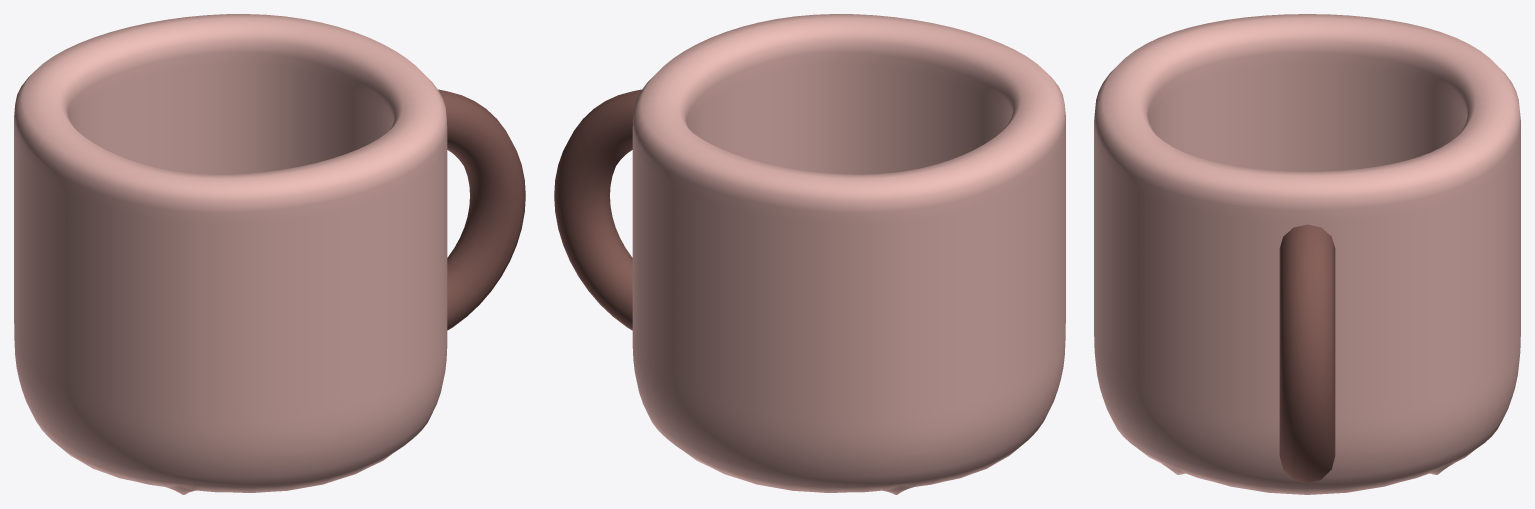
Rendered from empty_cup.glb.
The picture shows the model from 3 angles, left to right: view 1: azimuth 30°, elevation 25°; view 2: azimuth 150°, elevation 25°; view 3: azimuth 270°, elevation 25°; orthographic projection.
Visible parts, largest first — view 1: Cube.003, Torus.003; view 2: Cube.003, Torus.003; view 3: Cube.003, Torus.003.
Boxes of the visible parts, x1,y1,x2,y2 form: Cube.003: (14, 14, 447, 494); Torus.003: (438, 89, 525, 330); Cube.003: (632, 14, 1065, 494); Torus.003: (554, 89, 641, 330); Cube.003: (1094, 14, 1520, 494); Torus.003: (1279, 224, 1335, 483).
Size of what is drawn, in the model's own units: 0.1837 by 0.1204 by 0.1423.
